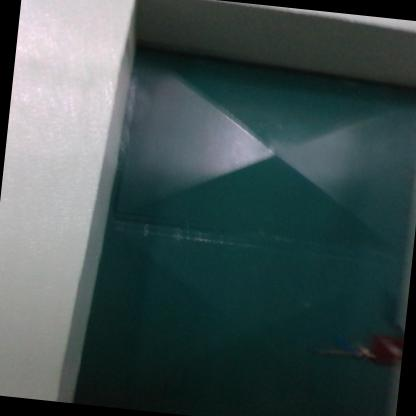closed: (57, 13, 415, 415)
